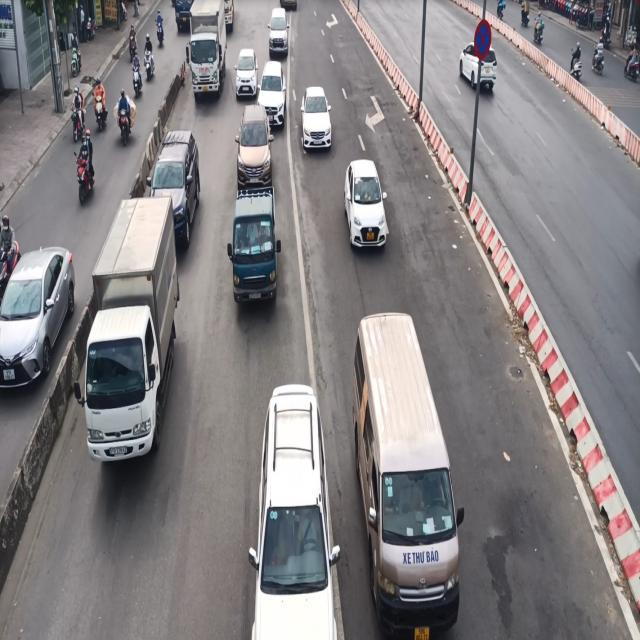car: (351, 310, 463, 636), (247, 383, 341, 639), (343, 158, 389, 249), (458, 41, 497, 91)
truck: (73, 195, 180, 463)
